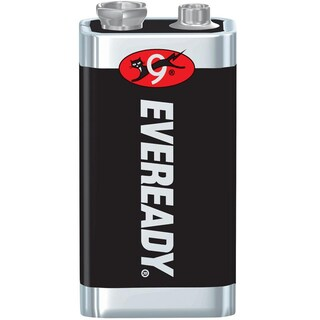Battery: (73, 1, 240, 320)
